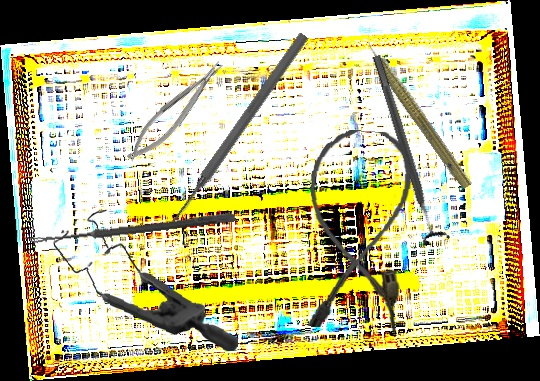Cannula: (300, 127, 415, 333)
Fixation Ring: (362, 51, 452, 247)
Handpiece: (352, 26, 479, 192)
Needle Holder: (118, 56, 234, 168)
Pusher: (160, 30, 311, 236)
Speculum: (46, 206, 247, 352)
Surgical Spoon: (28, 211, 236, 247)
